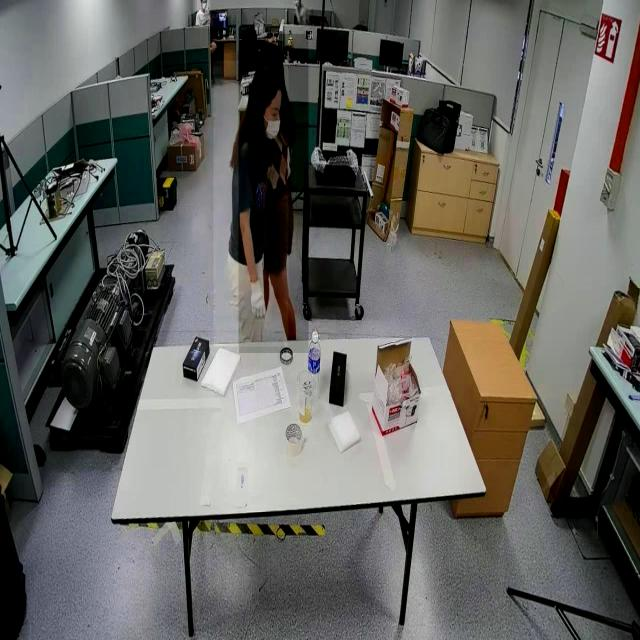face_mask: (260, 87, 284, 153), (196, 0, 208, 15)
hand_glove: (245, 274, 271, 322)
head_nohelmet: (250, 63, 284, 92), (258, 41, 284, 61)
person: (238, 34, 308, 354), (213, 60, 289, 348), (194, 0, 211, 29)
